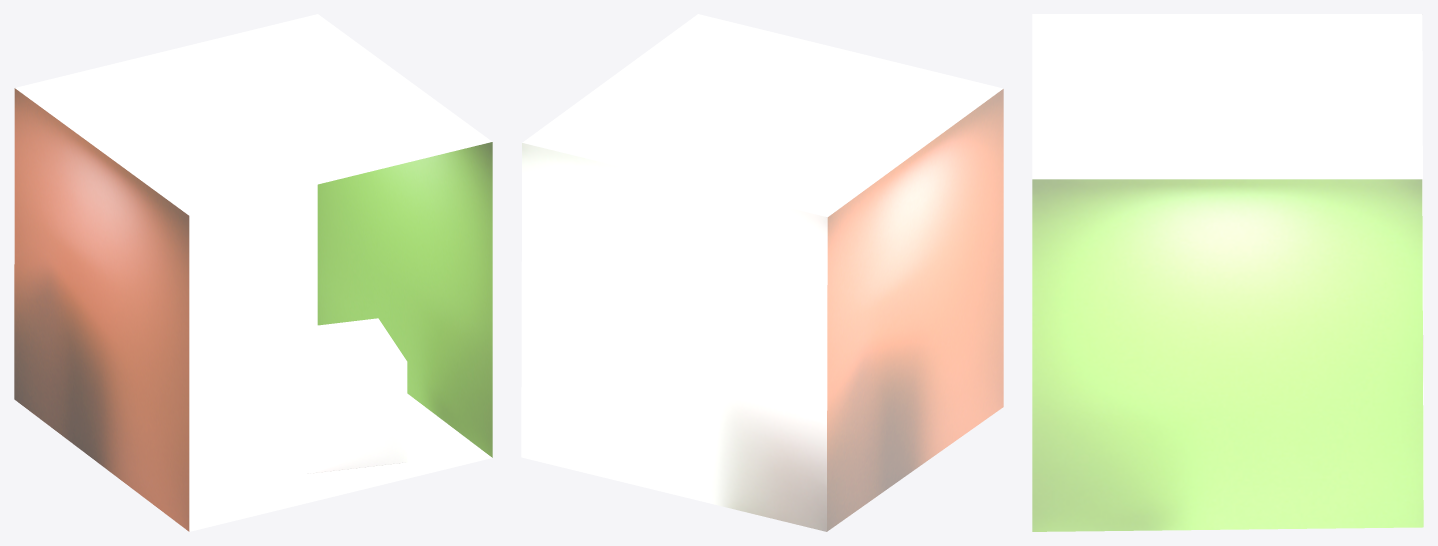
The model's file is cornell-box.glb.
3 views of the same model, side by side, from view 1: azimuth 30°, elevation 25°; view 2: azimuth 150°, elevation 25°; view 3: azimuth 270°, elevation 25° (orthographic). The views are drawn at different scales.
Parts seen in each view (by area): view 1: CornellBox; view 2: CornellBox; view 3: CornellBox.
Part boxes in pixels (x1=…): CornellBox: x1=14, y1=14, x2=492, y2=531; CornellBox: x1=521, y1=14, x2=1003, y2=531; CornellBox: x1=1032, y1=14, x2=1423, y2=531.
Size of the model in its own units: 10 by 10 by 10.
